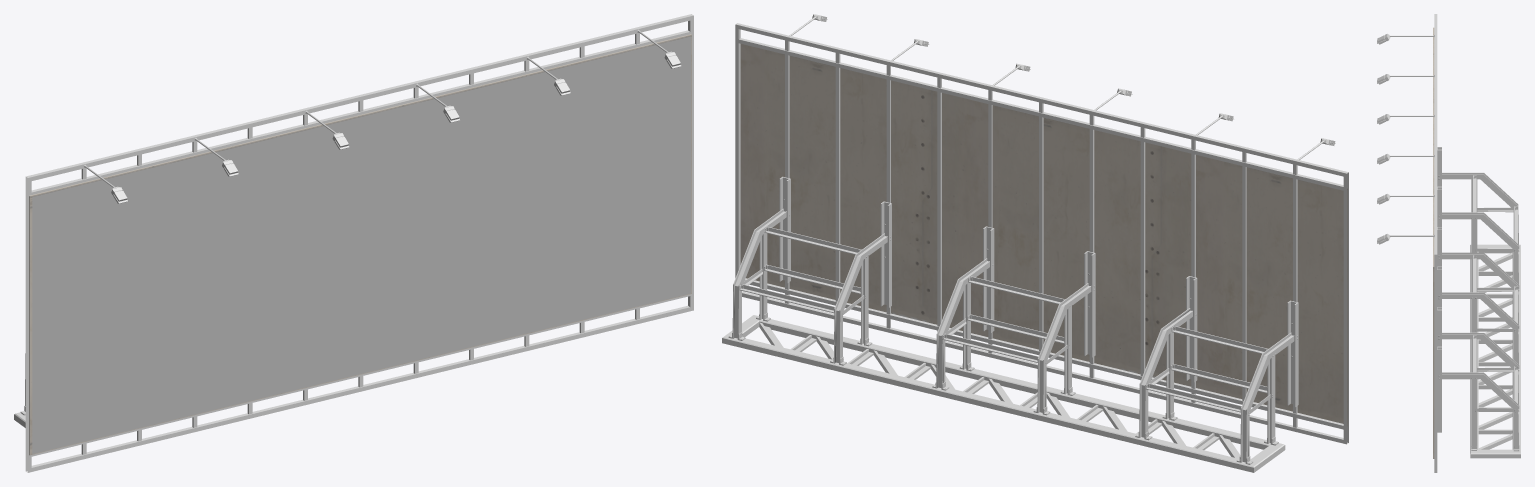
File: KB3D_CBP_Billboard_G.fbx
The picture shows the model from 3 angles, left to right: view 1: azimuth 30°, elevation 25°; view 2: azimuth 150°, elevation 25°; view 3: azimuth 270°, elevation 25°; orthographic projection. The views are drawn at different scales.
Parts seen in each view (by area): view 1: KB3D_CBP_Billboard_G_Main; view 2: KB3D_CBP_Billboard_G_Main; view 3: KB3D_CBP_Billboard_G_Main.
Part boxes in pixels (x1,y1,x2,y2): KB3D_CBP_Billboard_G_Main: (14,14,693,472); KB3D_CBP_Billboard_G_Main: (722,14,1348,472); KB3D_CBP_Billboard_G_Main: (1377,14,1520,472).
Bounding box in the file's own units: 2132 × 905 × 539.
